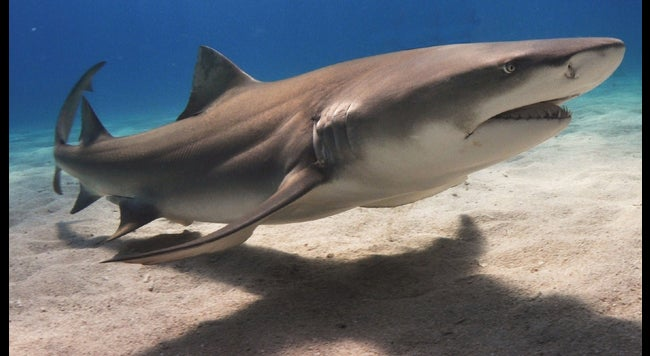shark: (43, 29, 630, 275)
